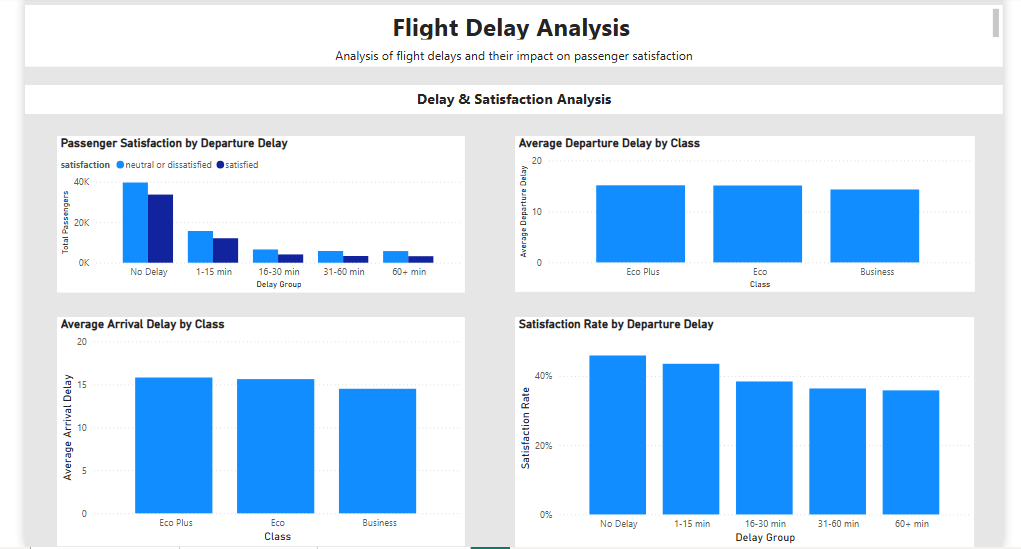

The page's visual inventory and layout, read from the dashboard file:
{"tool":"powerbi","page":{"name":"Flight Delay Analysis","canvas":[1280,720],"ordinal":2},"visuals":[{"type":"clusteredColumnChart","title":"Passenger Satisfaction by Departure Delay","fields":{"Category":["AirlineData.Delay Group"],"Y":["AirlineData.Total Passengers"],"Series":["AirlineData.satisfaction"]},"box":[42.4,181.5,534.1,204.9],"z":0},{"type":"clusteredColumnChart","fields":{"Category":["AirlineData.Class"],"Y":["AirlineData.Average Departure Delay"]},"box":[640.8,181.4,601.9,204.5],"z":1000},{"type":"clusteredColumnChart","fields":{"Category":["AirlineData.Class"],"Y":["AirlineData.Average Arrival Delay"]},"box":[42.4,418.5,534.1,300],"z":2000},{"type":"clusteredColumnChart","title":"Satisfaction Rate by Departure Delay","fields":{"Category":["AirlineData.Delay Group"],"Y":["AirlineData.Satisfaction Rate"]},"box":[641,418.5,601.5,301.5],"z":3000},{"type":"textbox","box":[0,10.1,1280.2,67.7],"z":3001},{"type":"textbox","box":[0,60,1280.5,35.1],"z":3002},{"type":"textbox","box":[0,115.6,1280.5,38],"z":3003}]}

Visuals, with their boxes on the page's 1280x720 design canvas (x1, y1, x2, y2). These are canvas units, not pixel positions in the 1021x549 screenshot, which may show the page scaled, cropped or inside an application window:
"Passenger Satisfaction by Departure Delay" clusteredColumnChart: bbox=[42, 182, 576, 386]
clusteredColumnChart - AirlineData.Class x AirlineData.Average Departure Delay: bbox=[641, 181, 1243, 386]
clusteredColumnChart - AirlineData.Class x AirlineData.Average Arrival Delay: bbox=[42, 418, 576, 718]
"Satisfaction Rate by Departure Delay" clusteredColumnChart: bbox=[641, 418, 1242, 720]
textbox: bbox=[0, 10, 1280, 78]
textbox: bbox=[0, 60, 1280, 95]
textbox: bbox=[0, 116, 1280, 154]
